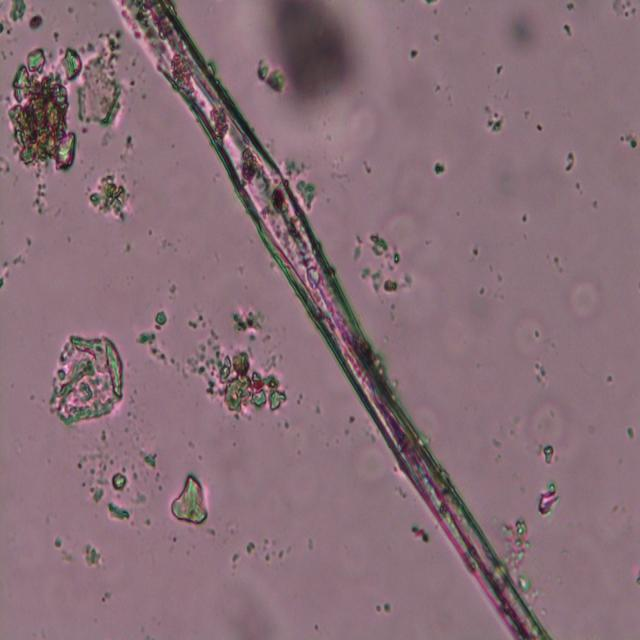Background material: (269, 0, 373, 115), (11, 46, 84, 168), (187, 334, 288, 415), (49, 330, 127, 428), (68, 28, 124, 128), (66, 427, 121, 513), (356, 232, 414, 300), (348, 424, 400, 491), (522, 398, 572, 464), (500, 516, 536, 598), (513, 311, 557, 367), (89, 169, 132, 225), (170, 472, 212, 528), (134, 311, 172, 370), (395, 80, 441, 128), (229, 534, 289, 569), (497, 13, 543, 55), (564, 279, 605, 324), (227, 302, 269, 344), (2, 234, 32, 290), (390, 208, 430, 248), (494, 411, 524, 463), (251, 57, 289, 97), (176, 297, 212, 339), (292, 162, 320, 212), (52, 520, 78, 564), (404, 514, 438, 544), (536, 480, 561, 519), (30, 171, 48, 224), (113, 132, 138, 164), (481, 103, 506, 135), (364, 591, 394, 616), (83, 534, 103, 569), (610, 1, 640, 21), (530, 358, 550, 386), (617, 128, 640, 150), (110, 469, 128, 496), (402, 42, 423, 65), (355, 156, 375, 180), (139, 449, 159, 472), (8, 1, 26, 24), (109, 505, 133, 522), (563, 150, 577, 177), (98, 130, 114, 153), (338, 415, 356, 435), (431, 157, 447, 178), (557, 21, 575, 39), (468, 242, 485, 261), (530, 118, 548, 134), (620, 422, 636, 440), (552, 253, 563, 278), (167, 280, 181, 298), (49, 25, 61, 46), (31, 13, 44, 32), (494, 63, 508, 76)
Cotton: (116, 1, 552, 637)
